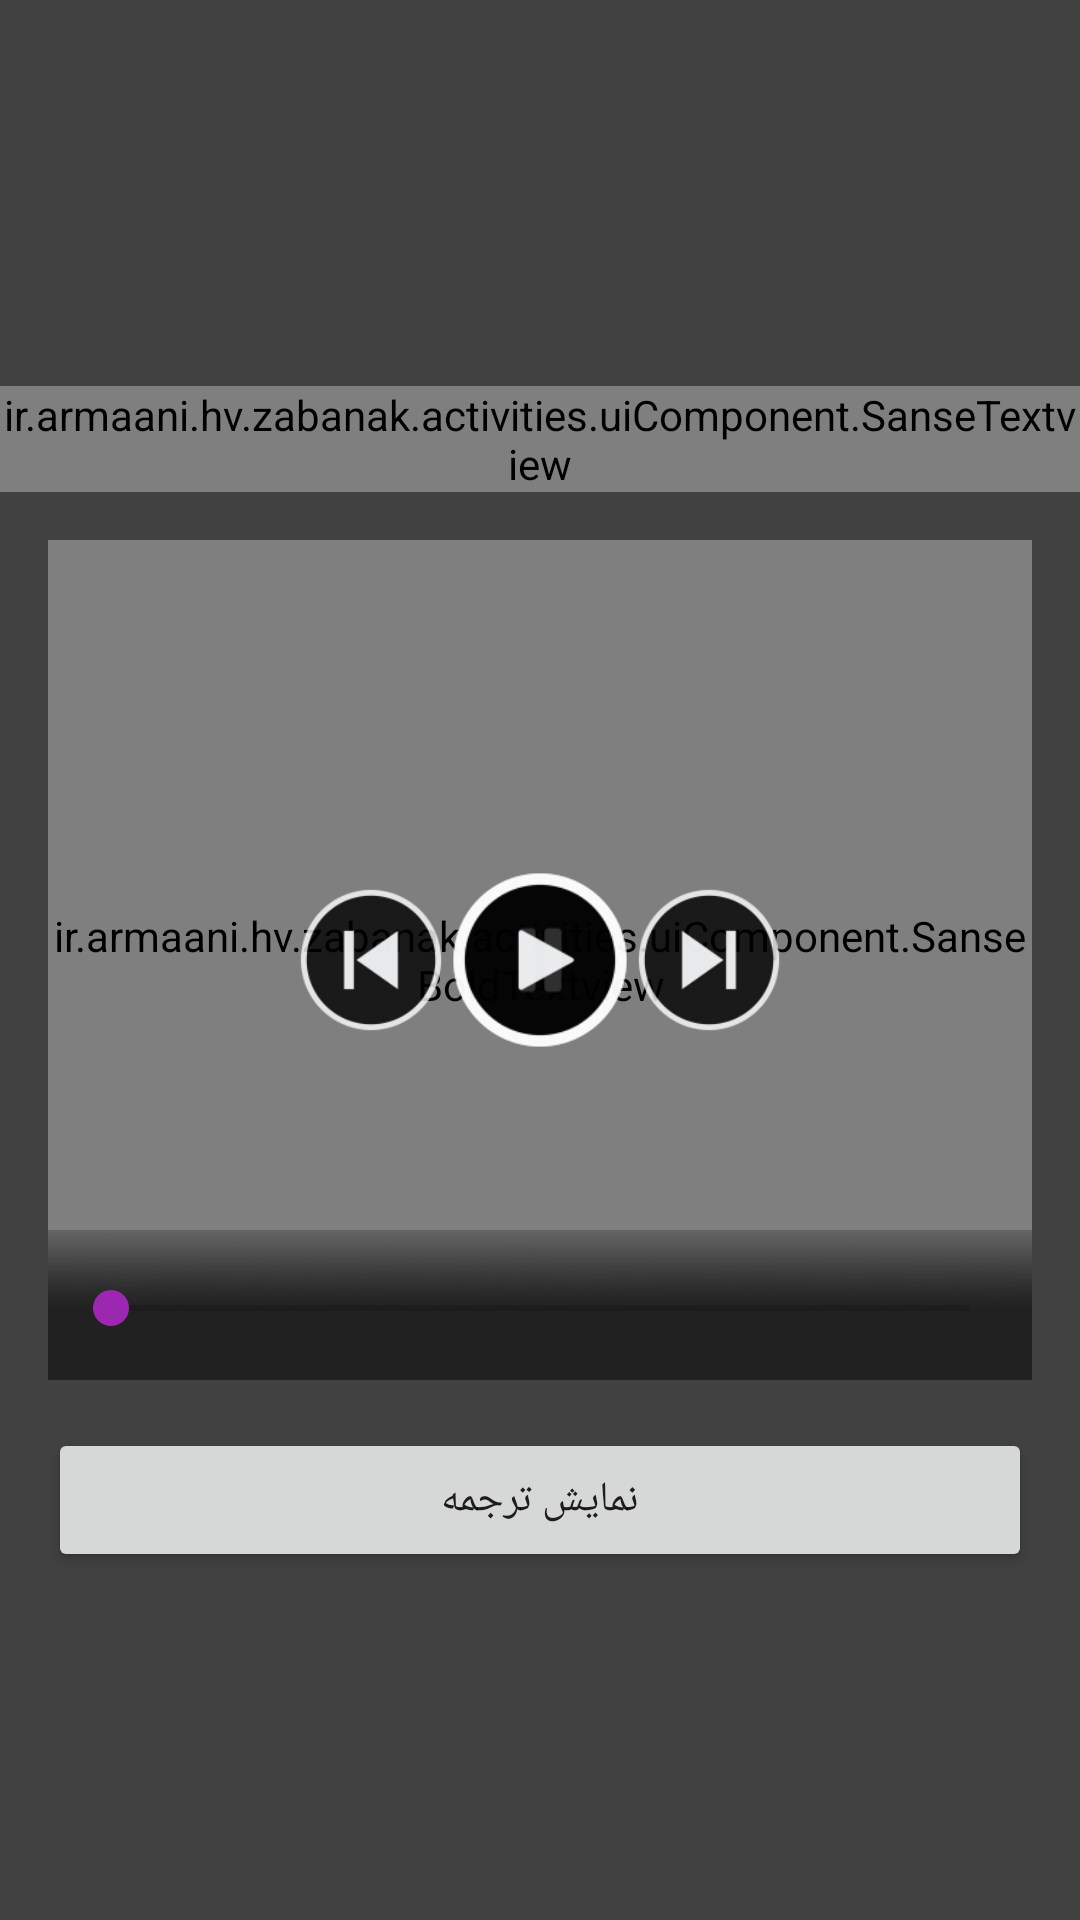

Point at icon controls on the screen. Image size 1080×1920, points as (x,y).
next time: (713,960)
previous time: (367,960)
